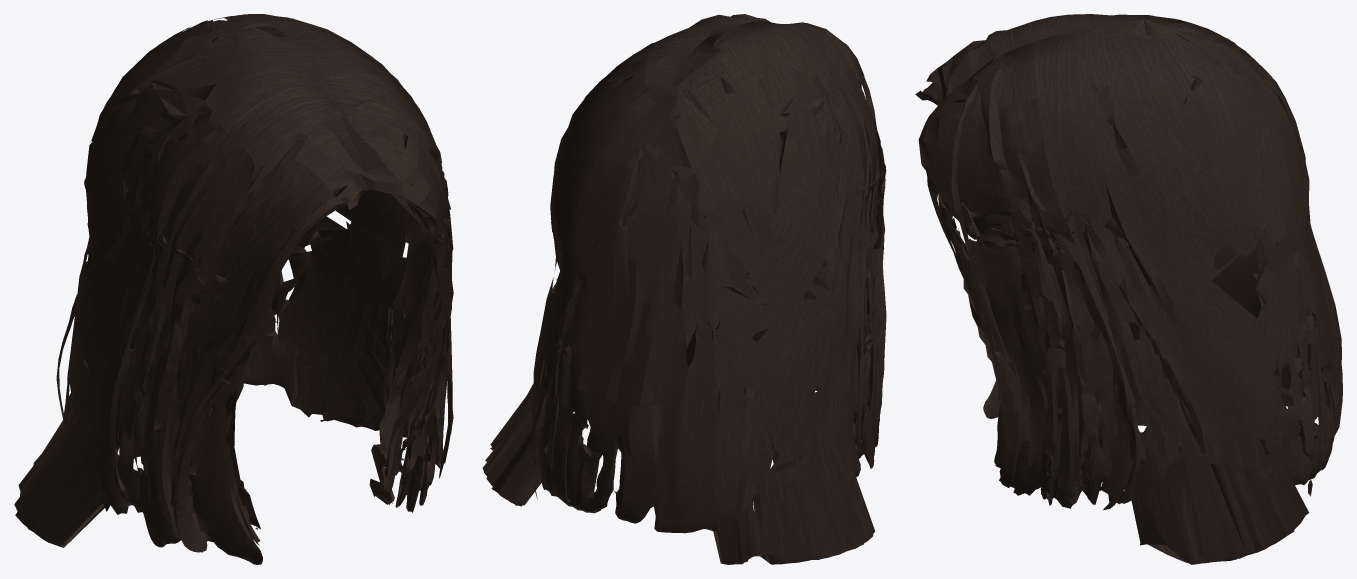
File: Hair_MediumBob.glb
The picture shows the model from 3 angles, left to right: view 1: azimuth 30°, elevation 25°; view 2: azimuth 150°, elevation 25°; view 3: azimuth 270°, elevation 25°; orthographic projection. The views are drawn at different scales.
Visible parts, largest first — view 1: HairMesh; view 2: HairMesh; view 3: HairMesh.
Boxes of the visible parts, x1,y1,x2,y2 form: HairMesh: [14, 14, 453, 564]; HairMesh: [482, 14, 886, 564]; HairMesh: [915, 14, 1342, 564].
Size of the model in its own units: 0.2306 by 0.2556 by 0.2186.
Materials: 1 (1 with a texture image).
